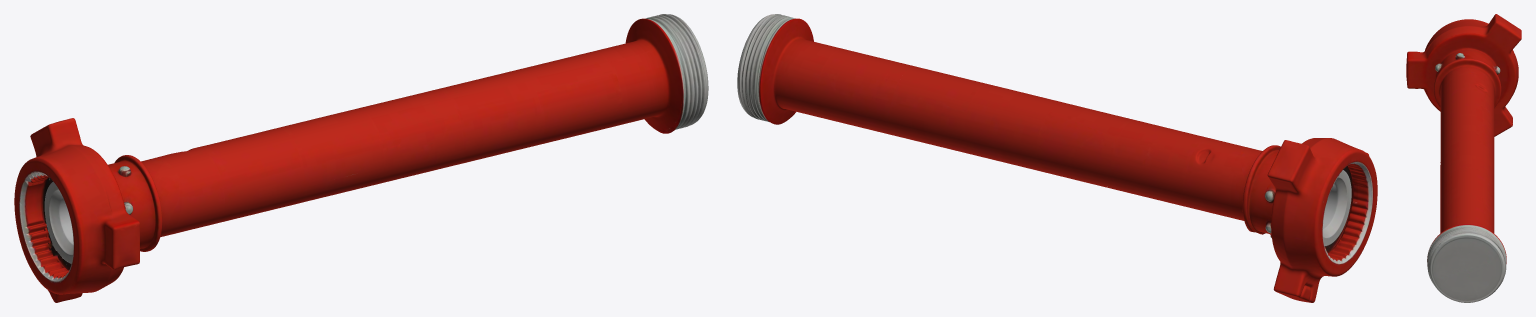
Rendered from tuberiaIntegralWeco.glb.
3 views of the same model, side by side, from view 1: azimuth 30°, elevation 25°; view 2: azimuth 150°, elevation 25°; view 3: azimuth 270°, elevation 25° (orthographic). The views are drawn at different scales.
Visible parts, largest first — view 1: tripo_node_0dd39061-c545-45c1-b9cc-e265c6963f97; view 2: tripo_node_0dd39061-c545-45c1-b9cc-e265c6963f97; view 3: tripo_node_0dd39061-c545-45c1-b9cc-e265c6963f97.
Boxes of the visible parts, x1,y1,x2,y2 form: tripo_node_0dd39061-c545-45c1-b9cc-e265c6963f97: [14, 14, 708, 302]; tripo_node_0dd39061-c545-45c1-b9cc-e265c6963f97: [737, 14, 1377, 302]; tripo_node_0dd39061-c545-45c1-b9cc-e265c6963f97: [1406, 14, 1521, 302].
Bounding box in the file's own units: 0.9799 × 0.2577 × 0.2279.
1 material, 1 textured.
